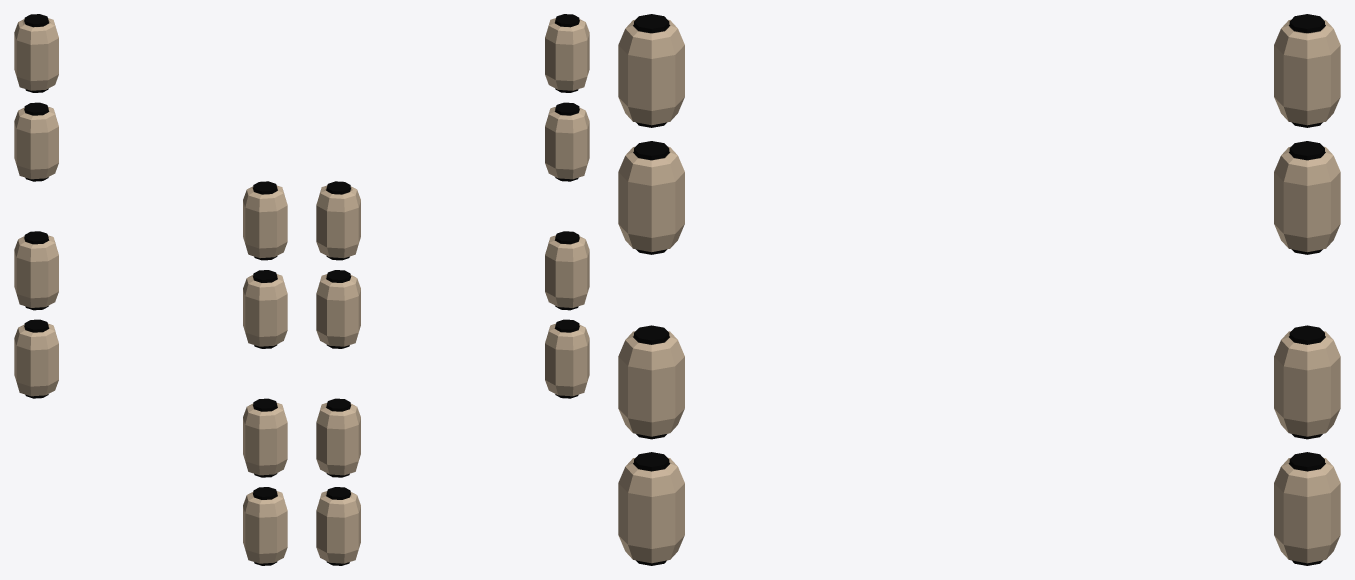
The model's file is rantann.FBX.
The picture shows the model from 3 angles, left to right: view 1: azimuth 30°, elevation 25°; view 2: azimuth 150°, elevation 25°; view 3: azimuth 270°, elevation 25°; orthographic projection. The views are drawn at different scales.
Parts seen in each view (by area): view 1: lantern014; view 2: lantern014; view 3: lantern014.
Boxes of the visible parts, x1=… form: lantern014: x1=14, y1=14, x2=287, y2=565; lantern014: x1=316, y1=14, x2=589, y2=565; lantern014: x1=618, y1=14, x2=1340, y2=565.
Bounding box in the file's own units: 43.01 × 382 × 466.
